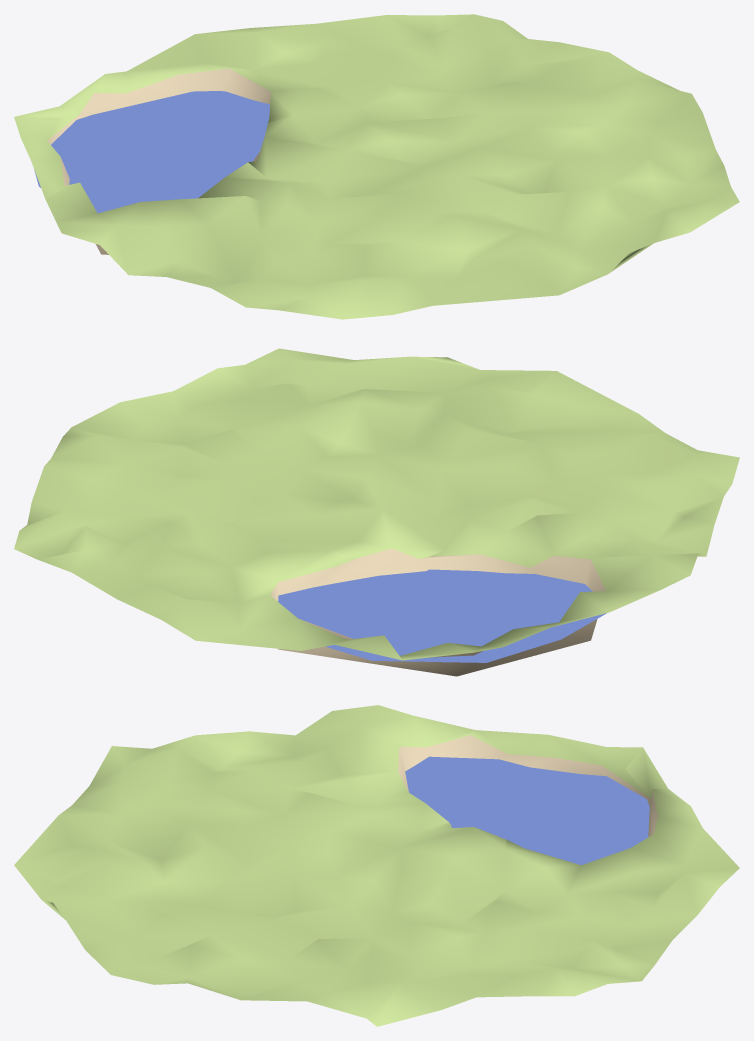
Rendered from plains.fbx.
3 renders of one model, top to bottom at view 1: azimuth 30°, elevation 25°; view 2: azimuth 150°, elevation 25°; view 3: azimuth 270°, elevation 25°, orthographic.
Parts seen in each view (by area): view 1: grass, water; view 2: grass, water; view 3: grass, water.
Boxes of the visible parts, x1,y1,x2,y2 form: grass: (14, 14, 739, 319); water: (34, 91, 269, 213); grass: (14, 348, 739, 676); water: (278, 569, 606, 662); grass: (14, 705, 739, 1026); water: (405, 756, 649, 865).
Size of the model in its own units: 14512 by 1947 by 14514.
